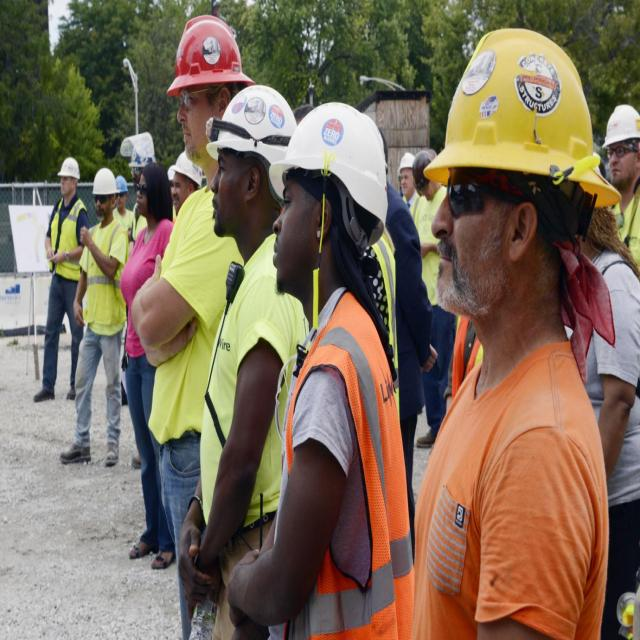Reflective-Jacket: (279, 308, 414, 640), (83, 219, 129, 333), (50, 198, 86, 281)
Safety-Helmet: (425, 24, 603, 190), (270, 94, 390, 226), (205, 81, 298, 165), (167, 10, 253, 99), (601, 99, 640, 155), (92, 165, 118, 199), (58, 153, 82, 181)
